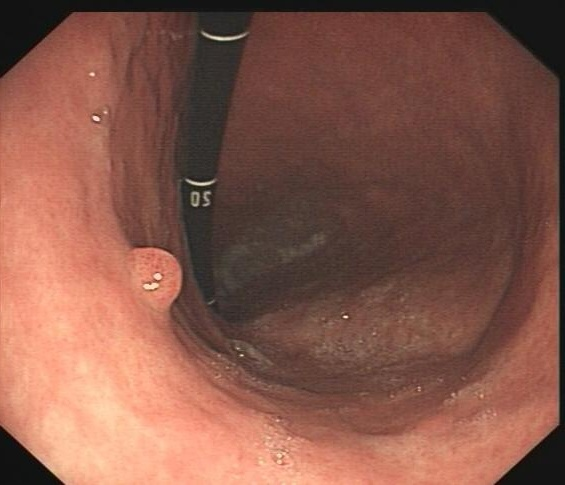Polyp: (122, 241, 186, 317)
